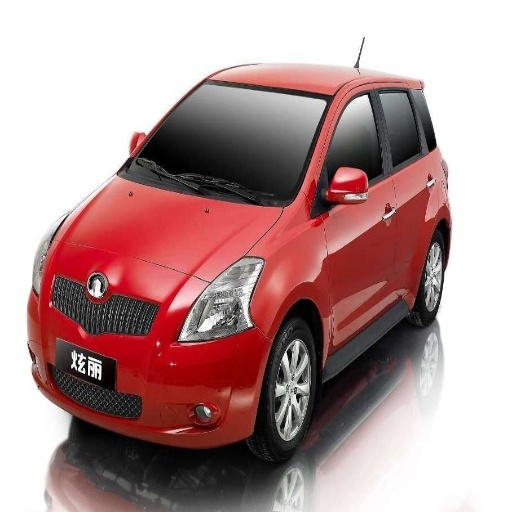front_bumper: (31, 250, 272, 442)
front_glass: (120, 82, 330, 207)
front_left_door: (312, 84, 393, 350)
